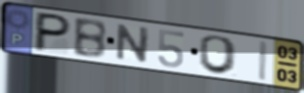5: (157, 28, 186, 69)
B: (71, 18, 108, 61)
I: (255, 39, 271, 83)
N: (113, 22, 152, 65)
O: (197, 34, 240, 76)
P: (32, 10, 74, 54)
